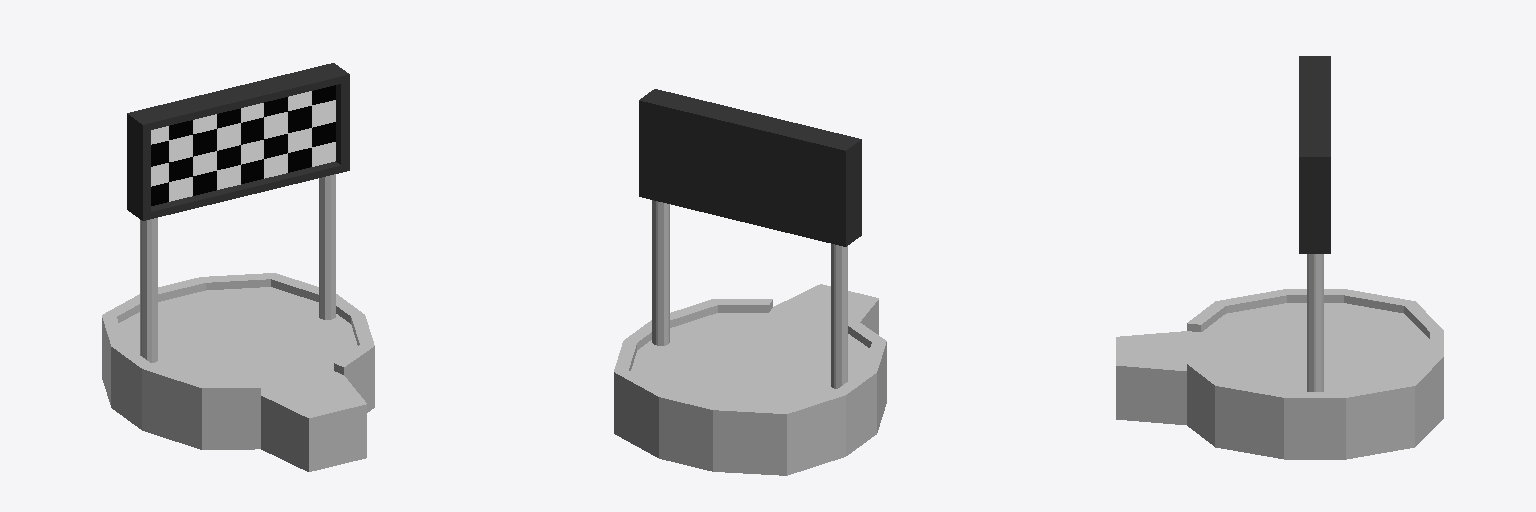
The model's file is Finish.obj.
The picture shows the model from 3 angles: view 1: azimuth 30°, elevation 25°; view 2: azimuth 150°, elevation 25°; view 3: azimuth 270°, elevation 25°; orthographic projection.
Visible parts, largest first — view 1: Cube.001; view 2: Cube.001; view 3: Cube.001.
Part boxes in pixels (x1,y1,x2,y2): Cube.001: (102, 63, 374, 471); Cube.001: (614, 89, 886, 475); Cube.001: (1116, 56, 1443, 459).
Size of the model in its own units: 8.64 by 11.06 by 11.02.